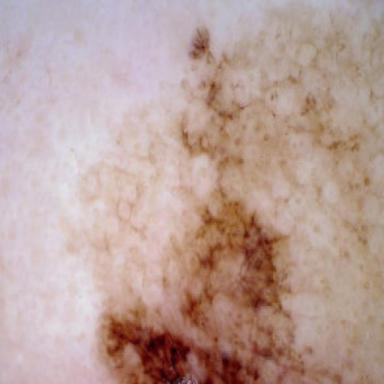Melanoma: (101, 30, 343, 384)
